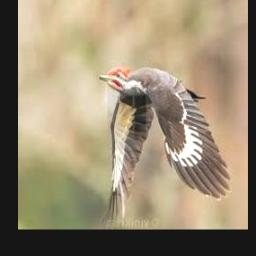Woodpecker: (99, 67, 231, 219)
